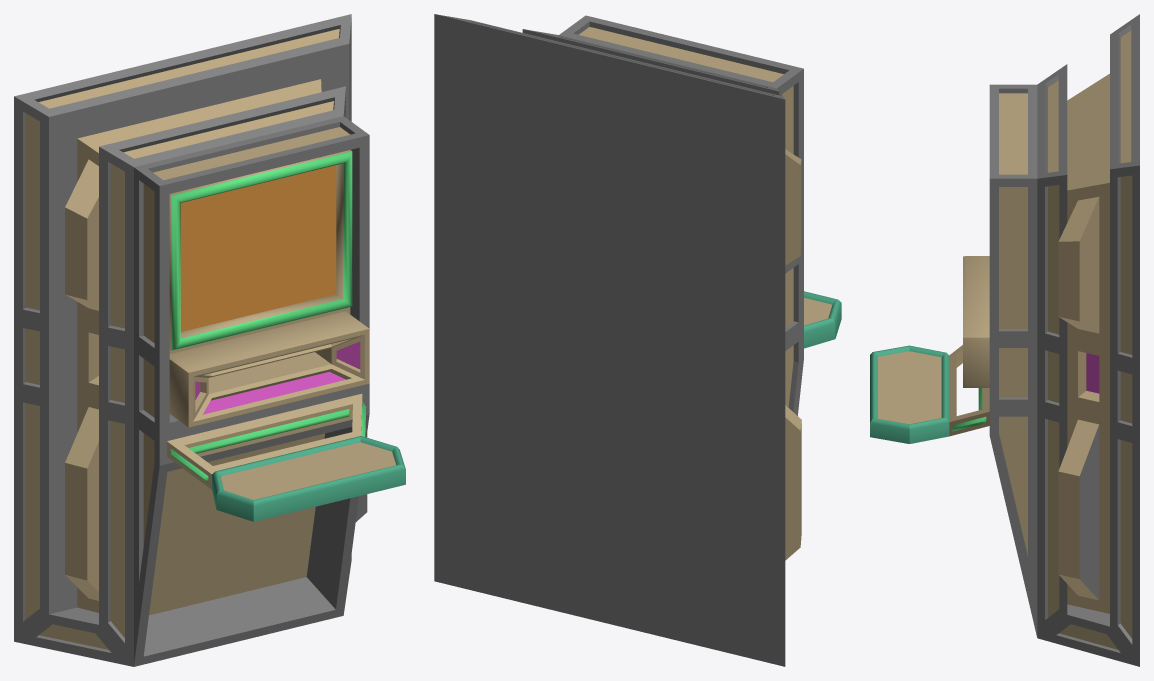
File: AmmoConsole.fbx
3 renders of one model, left to right at view 1: azimuth 30°, elevation 25°; view 2: azimuth 150°, elevation 25°; view 3: azimuth 270°, elevation 25°, orthographic. The views are drawn at different scales.
Parts seen in each view (by area): view 1: Box001; view 2: Box001; view 3: Box001.
Part boxes in pixels (x1,y1,x2,y2): Box001: [14, 14, 405, 666]; Box001: [434, 14, 841, 666]; Box001: [870, 14, 1139, 666].
Bounding box in the file's own units: 64.32 × 99.28 × 48.42.
